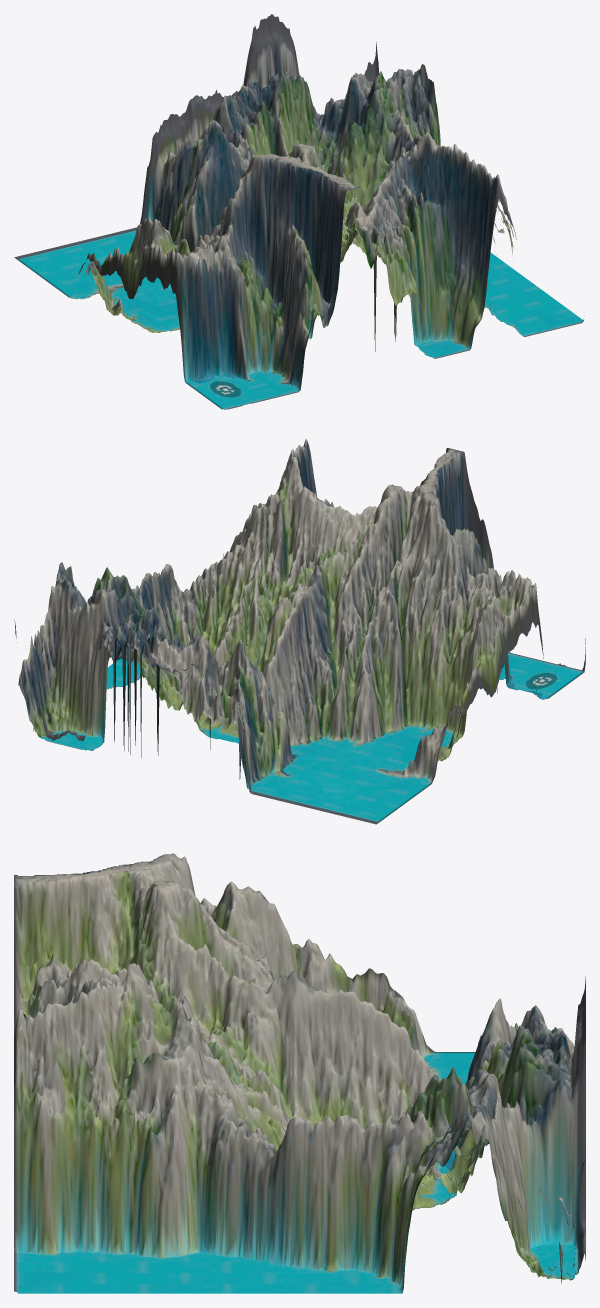
Rendered from dsm_a8b6c2f7a3_mesh.glb.
3 views of the same model, one above another, from view 1: azimuth 30°, elevation 25°; view 2: azimuth 150°, elevation 25°; view 3: azimuth 270°, elevation 25° (orthographic). The views are drawn at different scales.
Visible parts, largest first — view 1: geometry_0; view 2: geometry_0; view 3: geometry_0.
Part boxes in pixels (left/top/right/bottom): geometry_0: left=14, top=14, right=583, bottom=409; geometry_0: left=14, top=439, right=585, bottom=824; geometry_0: left=14, top=853, right=585, bottom=1293.
Size of the model in its own units: 2 by 1 by 2.
